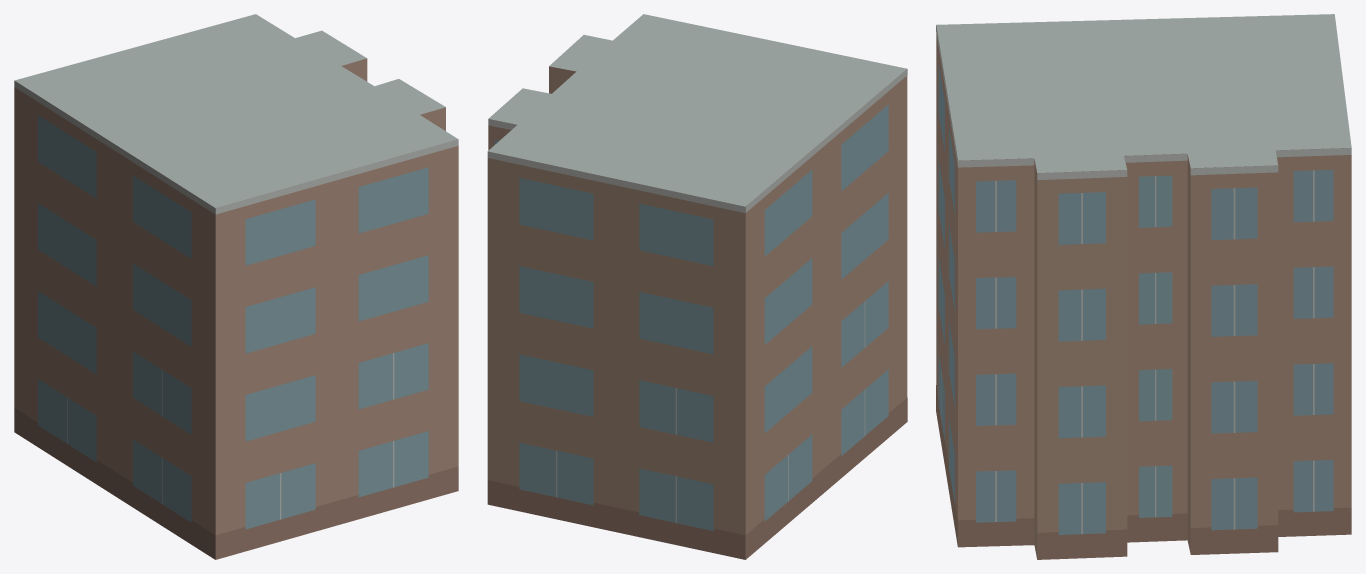
Rendered from survey-upis-32698600.glb.
3 renders of one model, left to right at view 1: azimuth 30°, elevation 25°; view 2: azimuth 150°, elevation 25°; view 3: azimuth 270°, elevation 25°, orthographic. The views are drawn at different scales.
Visible parts, largest first — view 1: survey-upis-32698600.tmp; view 2: survey-upis-32698600.tmp; view 3: survey-upis-32698600.tmp.
Boxes of the visible parts, <box> form: survey-upis-32698600.tmp: <box>14,14,458,559</box>; survey-upis-32698600.tmp: <box>487,14,907,559</box>; survey-upis-32698600.tmp: <box>936,14,1351,559</box>.
Bounding box in the file's own units: 11.74 × 13.3 × 12.96.
